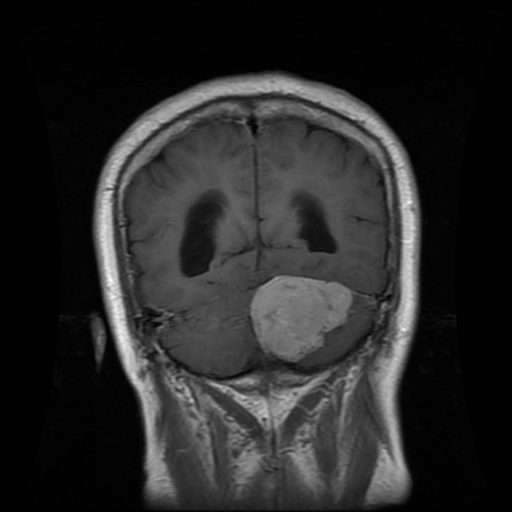meningioma: (251, 274, 351, 360)
